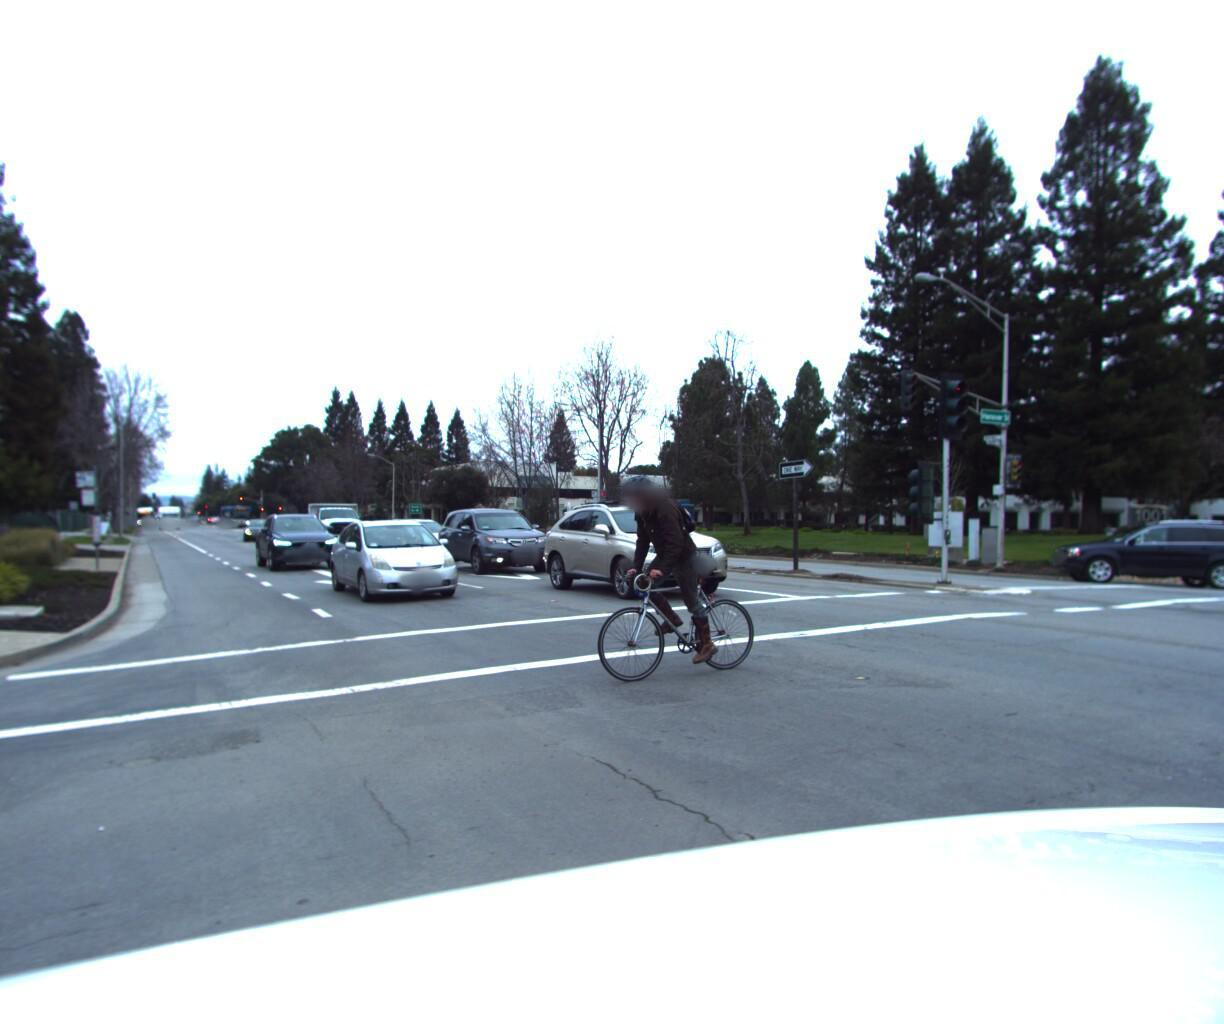bicycle: (559, 457, 789, 695)
car: (533, 493, 753, 605), (1042, 516, 1224, 589), (327, 515, 470, 605), (430, 503, 566, 578), (249, 510, 342, 573), (372, 518, 466, 565), (296, 495, 370, 547)
